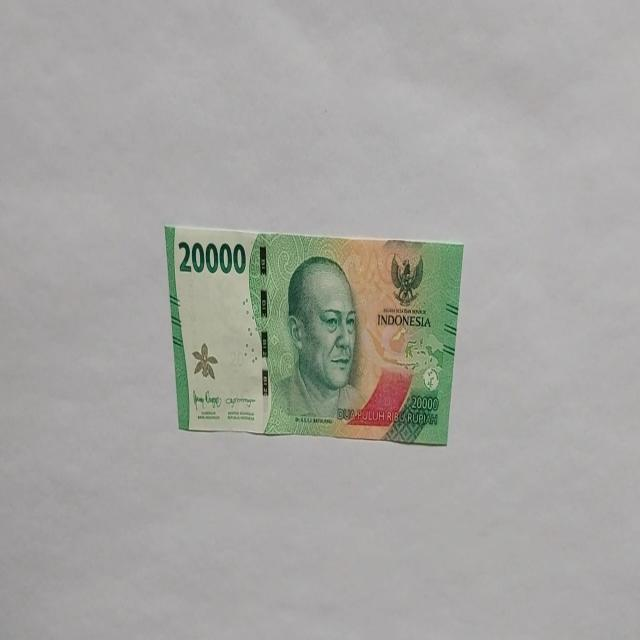dua puluh ribu rupiah: (164, 223, 464, 445), (269, 254, 367, 431)
